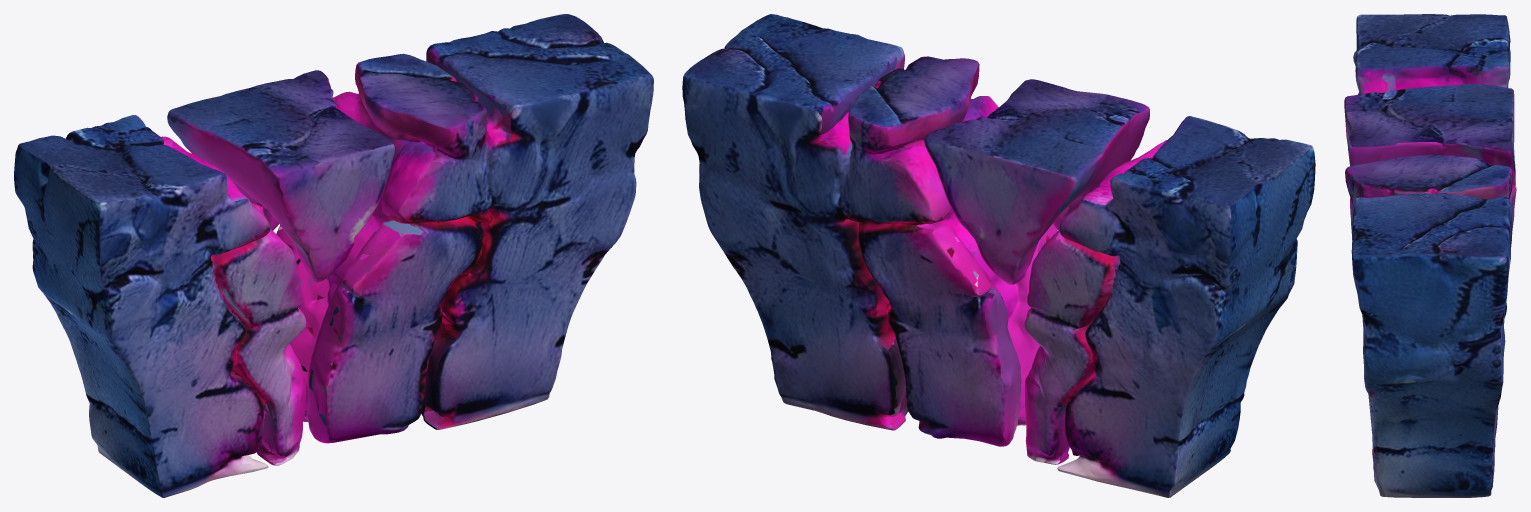
Rendered from shelf-break-2-generated-2026-05-17T20-38-05-158Z.medium.glb.
3 views of the same model, side by side, from view 1: azimuth 30°, elevation 25°; view 2: azimuth 150°, elevation 25°; view 3: azimuth 270°, elevation 25° (orthographic). The views are drawn at different scales.
Parts seen in each view (by area): view 1: temp_mesh.ply; view 2: temp_mesh.ply; view 3: temp_mesh.ply.
Boxes of the visible parts, <box> form: temp_mesh.ply: <box>14,14,653,497</box>; temp_mesh.ply: <box>682,14,1315,497</box>; temp_mesh.ply: <box>1344,14,1516,497</box>.
Bounding box in the file's own units: 1.97 × 1.09 × 0.5928.
Materials: 1 (1 with a texture image).
